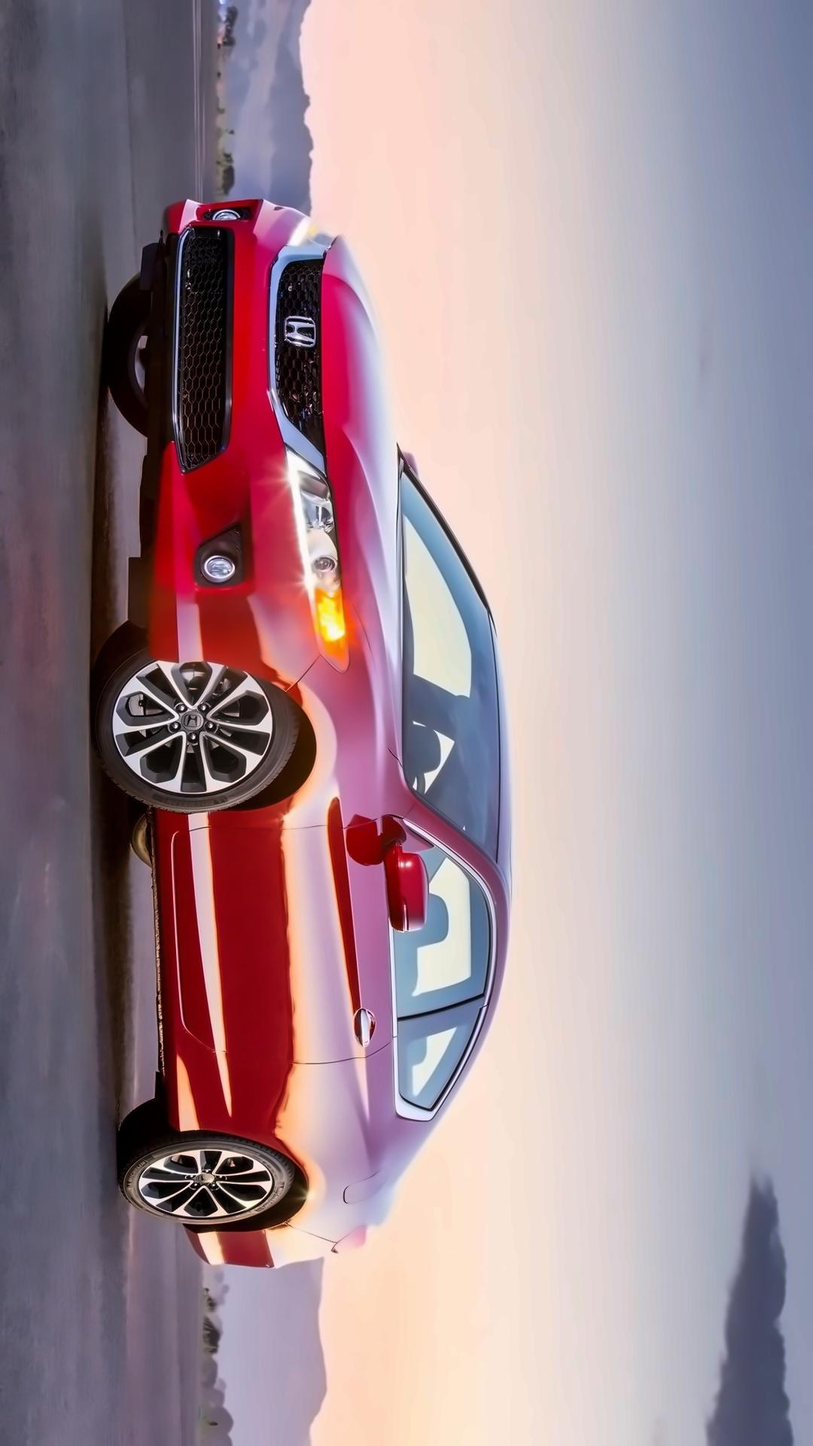Car hood: (309, 228, 412, 764)
Fender - -F-L-: (162, 653, 423, 832)
Fender - -R-L-: (162, 1070, 402, 1238)
Front bumper: (134, 181, 322, 699)
Headlight - -L-: (279, 443, 366, 687)
Headlight - -R-: (277, 202, 341, 280)
Passenger-s door - -F-L-: (162, 834, 507, 1067)
Rear bumper: (168, 1211, 342, 1298)
Rear light - -L-: (320, 1217, 388, 1261)
Side bumper - -L-: (143, 799, 211, 1156)
Side mirror - -L-: (365, 817, 443, 942)
